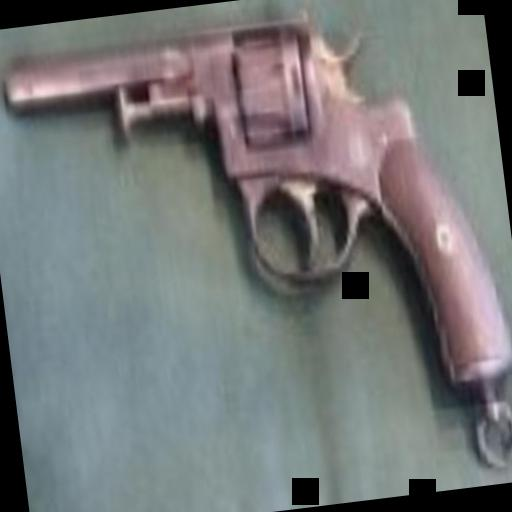Handgun: (0, 0, 512, 439)
